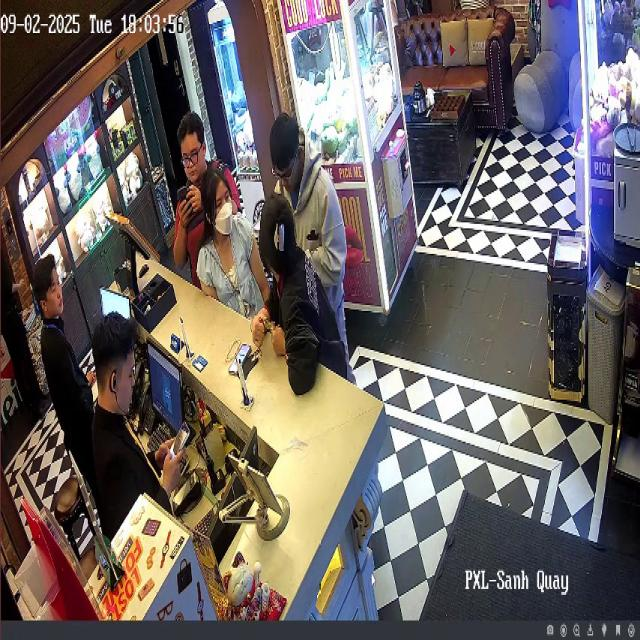khach: (259, 65, 378, 360), (252, 178, 371, 419), (200, 148, 276, 342), (167, 65, 232, 281)
nhan vien: (78, 291, 164, 576), (18, 232, 106, 444)
